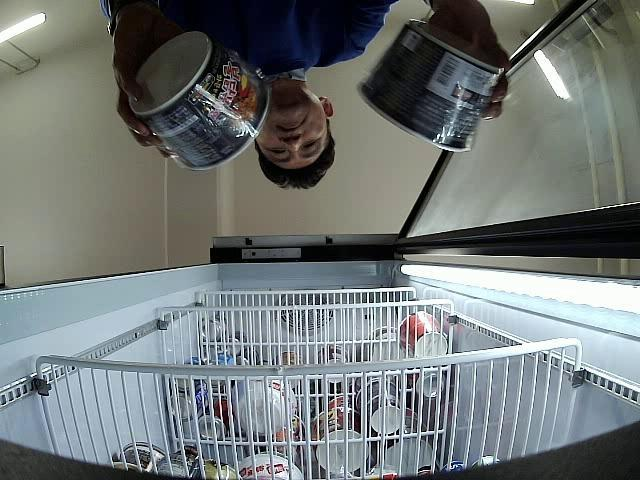07_buldak_L: (128, 30, 270, 170), (356, 19, 504, 151)
